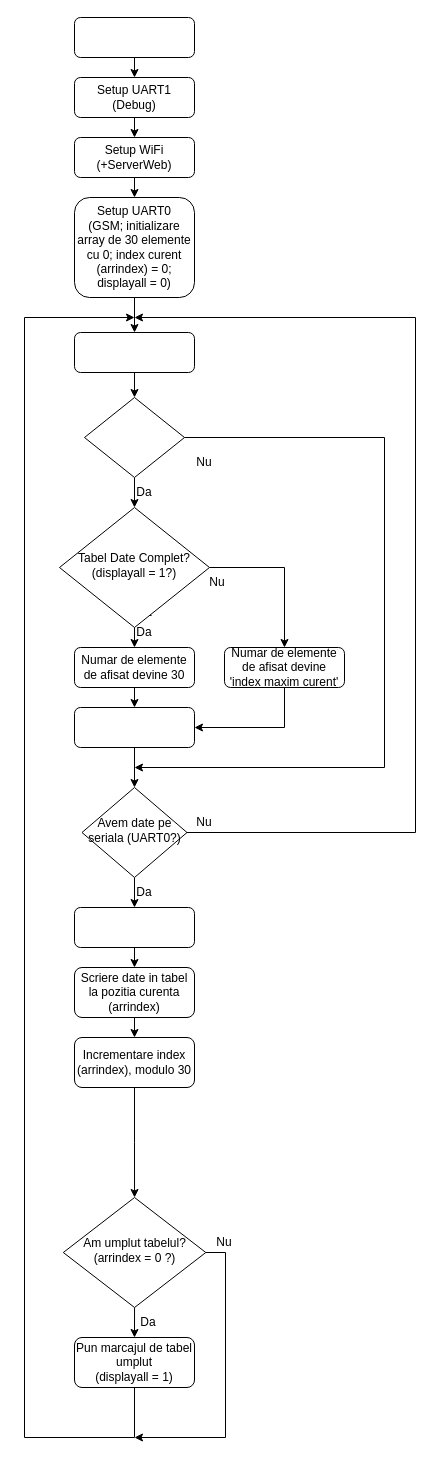
The diagram is 441 pixels wide and 1463 high, and some of its shapes have lost their labels. Each missing label, with the centre of its shape:
Bucla Principala (Loop): point 134,352
Client Web Conectat?: point 134,437
Parsare mesaj: point 134,927
Start: point 134,37
Trimite raspunsul HTML cu tabelul cu valori: point 134,727
